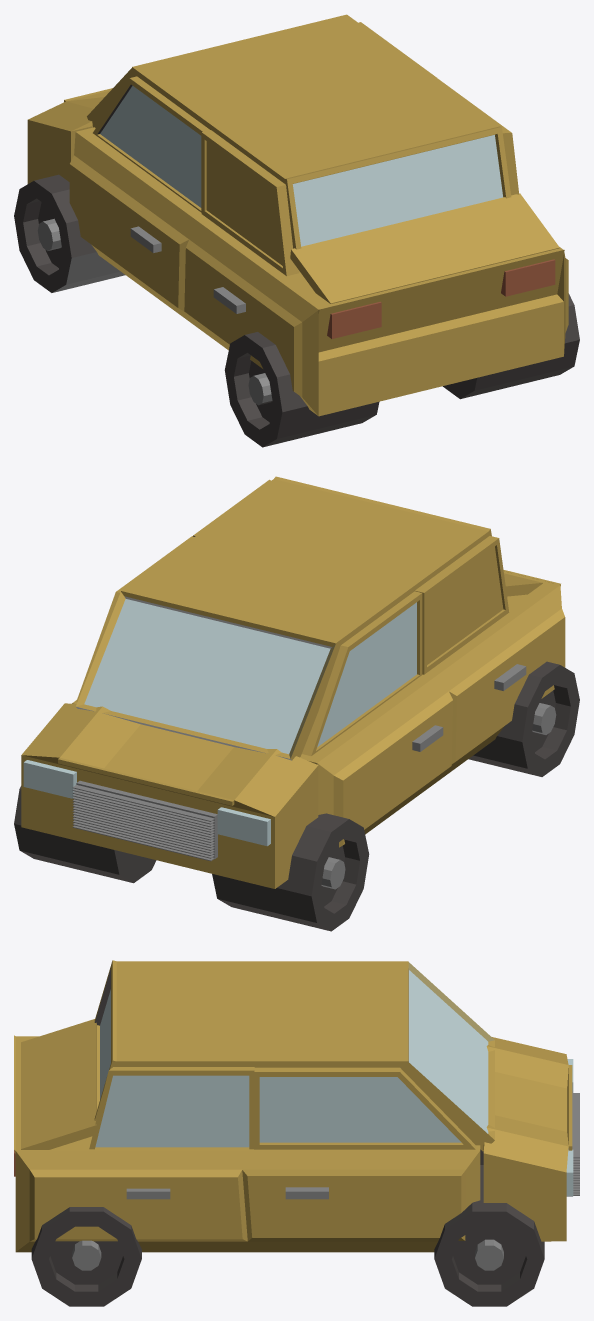
The model's file is Car Player Colored.fbx.
The picture shows the model from 3 angles, top to bottom: view 1: azimuth 30°, elevation 25°; view 2: azimuth 150°, elevation 25°; view 3: azimuth 270°, elevation 25°; orthographic projection. The views are drawn at different scales.
Visible parts, largest first — view 1: pasted__pCube1, pasted__pCube9, pasted__pCube8, pasted__pCube7, pasted__pCube13, pasted__pCube11, pasted__pCylinder3, pasted__pCylinder1, pasted__pCube6, pasted__pCylinder4, pasted__pCube15, pasted__pCube16 (+2 smaller); view 2: pasted__pCube9, pasted__pCube10, pasted__pCube6, pasted__pCube1, pasted__pCylinder1, pasted__pCube11, pasted__pCube13, pasted__pCylinder3, pasted__pCylinder2, pasted__pCube18, pasted__pCube17, pasted__pCube19 (+4 smaller); view 3: pasted__pCube1, pasted__pCube9, pasted__pCube12, pasted__pCube6, pasted__pCube14, pasted__pCube10, pasted__pCylinder2, pasted__pCube7, pasted__pCylinder4, pasted__pCube8, pasted__pCube4, pasted__pCube5 (+1 smaller).
Boxes of the visible parts, x1,y1,x2,y2 form: pasted__pCube1: (69,127,568,416); pasted__pCube9: (132,14,499,183); pasted__pCube8: (283,126,511,249); pasted__pCube7: (290,193,559,303); pasted__pCube13: (201,130,299,276); pasted__pCube11: (93,76,209,212); pasted__pCylinder3: (224,332,379,447); pasted__pCylinder1: (14,174,125,292); pasted__pCube6: (27,88,112,183); pasted__pCylinder4: (443,293,579,399); pasted__pCube15: (501,259,555,296); pasted__pCube16: (327,301,381,338); pasted__pCube9: (121,479,489,649); pasted__pCube10: (75,592,339,760); pasted__pCube6: (21,703,318,888); pasted__pCube1: (72,569,565,847); pasted__pCylinder1: (212,813,369,931); pasted__pCube11: (302,591,422,755); pasted__pCube13: (415,536,509,674); pasted__pCylinder3: (468,661,579,776); pasted__pCylinder2: (14,786,156,883); pasted__pCube18: (217,807,270,846); pasted__pCube17: (23,760,76,798); pasted__pCube19: (76,780,217,859); pasted__pCube1: (14,1035,480,1252); pasted__pCube9: (115,961,408,1067); pasted__pCube12: (254,1067,475,1149); pasted__pCube6: (483,1037,572,1241); pasted__pCube14: (89,1067,254,1149); pasted__pCube10: (400,962,494,1151); pasted__pCylinder2: (434,1165,544,1306); pasted__pCube7: (21,1019,98,1149); pasted__pCylinder4: (31,1207,141,1306); pasted__pCube8: (94,960,118,1120); pasted__pCube4: (285,1187,328,1199); pasted__pCube5: (126,1188,170,1199).
Bounding box in the file's own units: 5.96 × 4.6 × 10.27.
